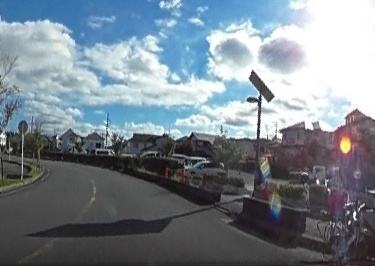person: (360, 98, 375, 254)
